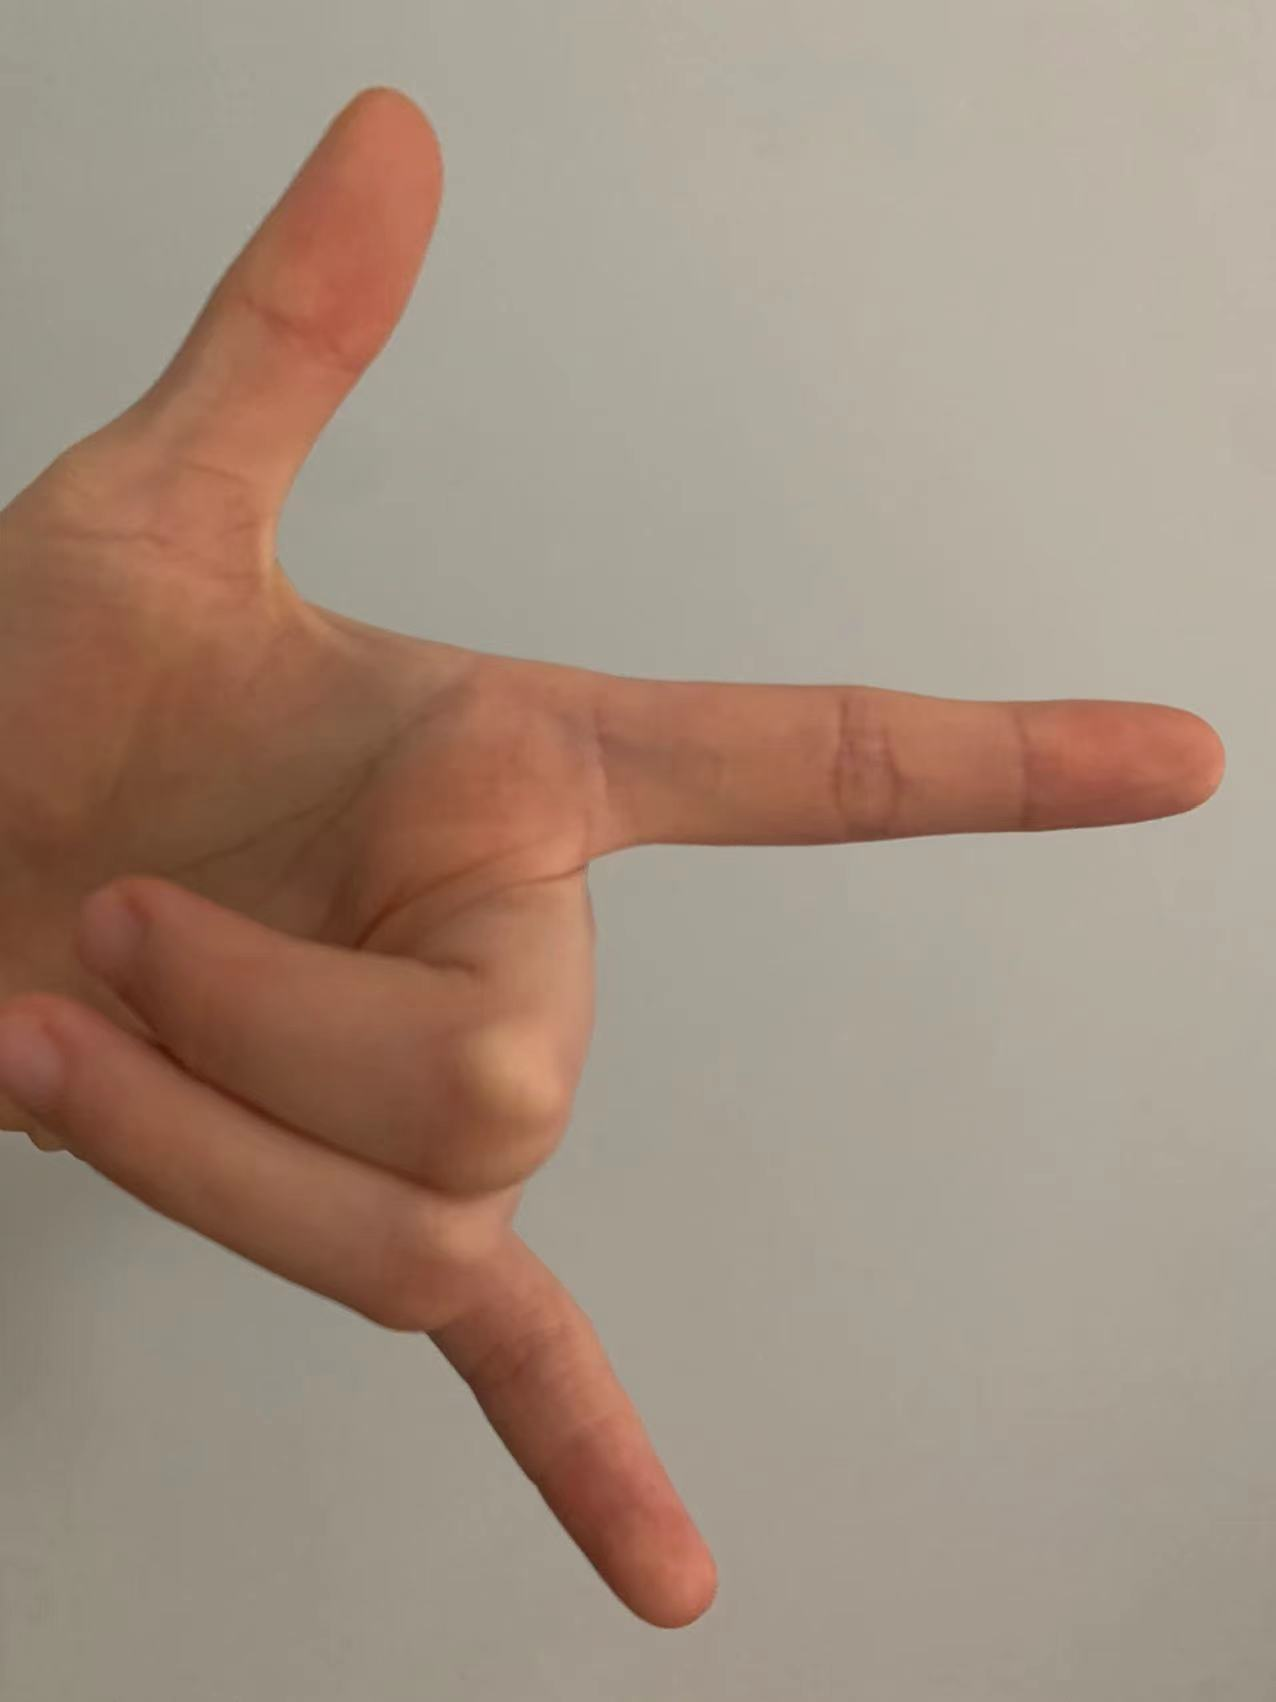back: (21, 71, 1260, 1626)
